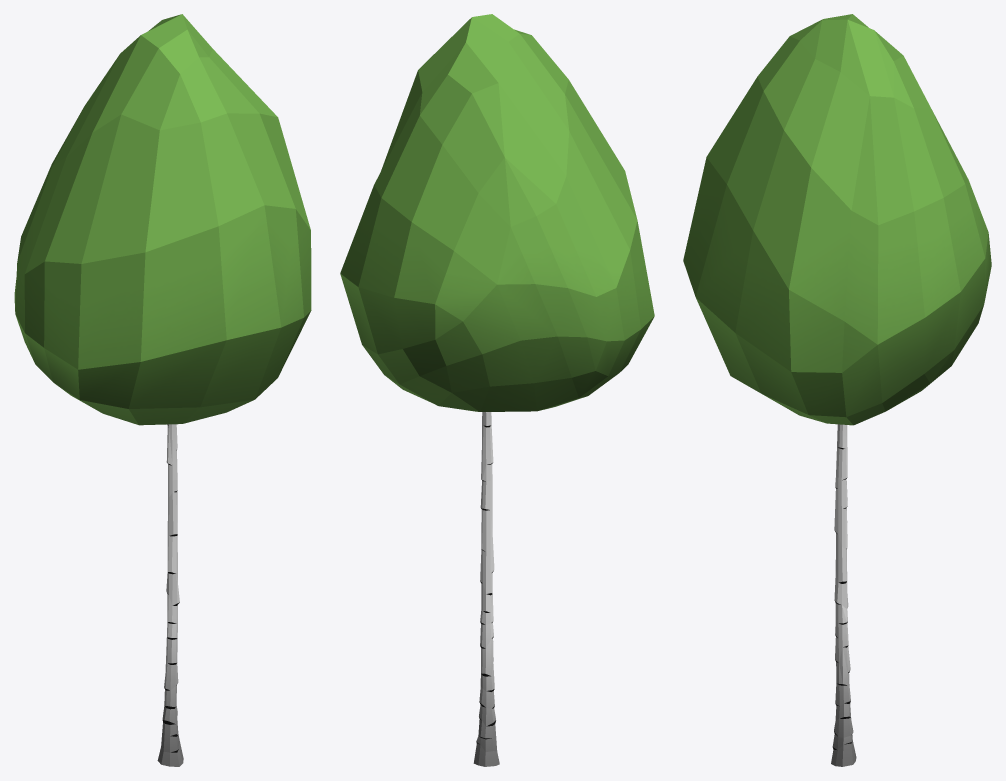
File: TreeBirch-01.FBX
The picture shows the model from 3 angles, left to right: view 1: azimuth 30°, elevation 25°; view 2: azimuth 150°, elevation 25°; view 3: azimuth 270°, elevation 25°; orthographic projection.
Visible parts, largest first — view 1: TreeBirch-01; view 2: TreeBirch-01; view 3: TreeBirch-01.
Part boxes in pixels (x1,y1,x2,y2): TreeBirch-01: [14, 14, 311, 766]; TreeBirch-01: [340, 14, 654, 766]; TreeBirch-01: [683, 14, 991, 766].
Size of the model in its own units: 314 by 860 by 321.
1 material, 1 textured.
